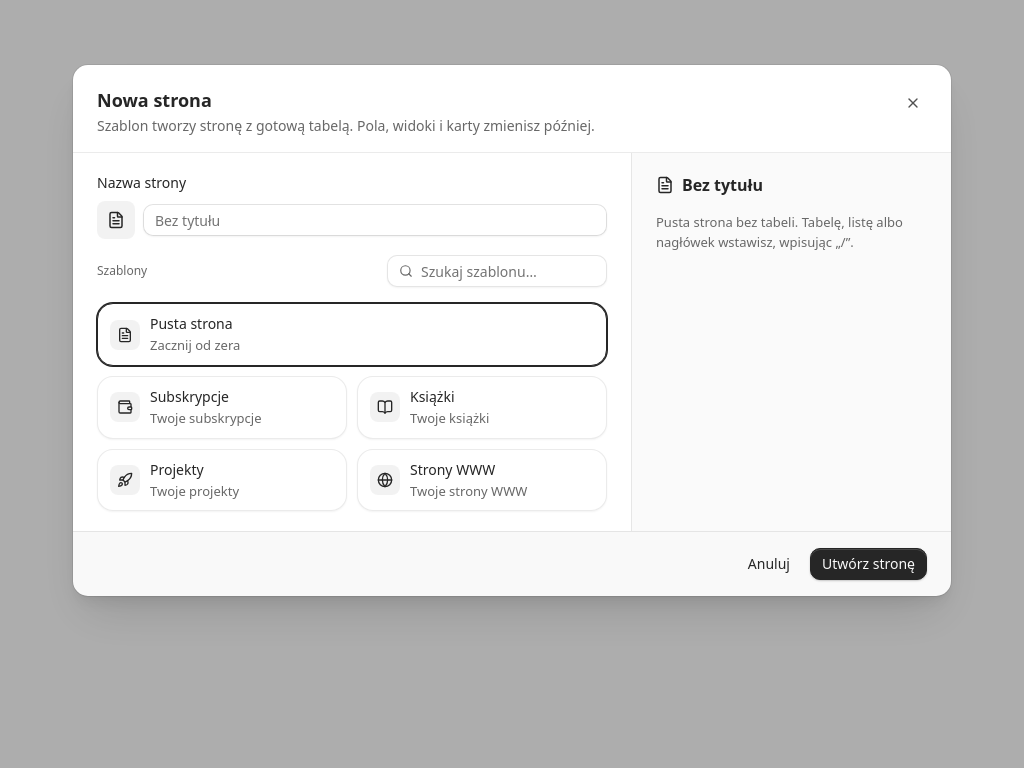
Test: NewPageView › wyszukiwanie filtruje szablony; brak wyniku pokazuje „Pokaż wszystkie”, które czyści frazę
The width and height of the screenshot is (1024, 768).
In the field labelled "Szukaj szablonu": (508, 271) top-left (421, 256), bottom-right (595, 286), type "www"
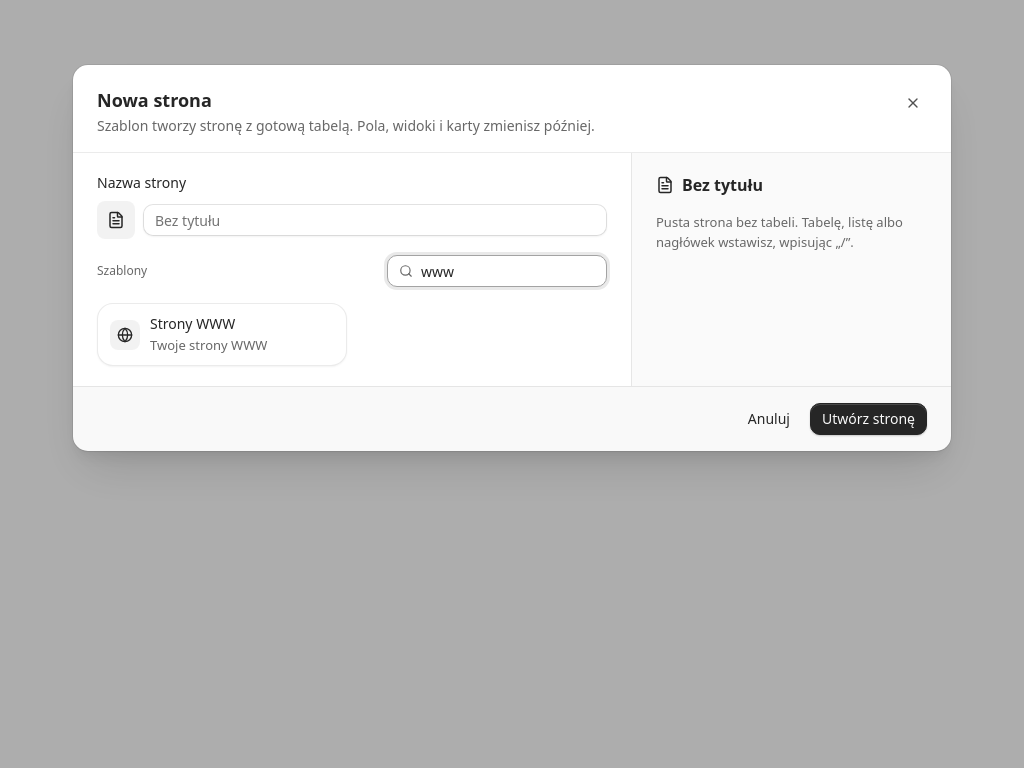
Expected: the radio button labelled "Strony WWW Twoje strony WWW" is shown, top-left (97, 303), bottom-right (347, 366)
Expected: the radio button labelled "Książki" is gone
Replace the text in the field named "Szukaj szablonu" with "xyz": (508, 271) top-left (421, 256), bottom-right (595, 286)
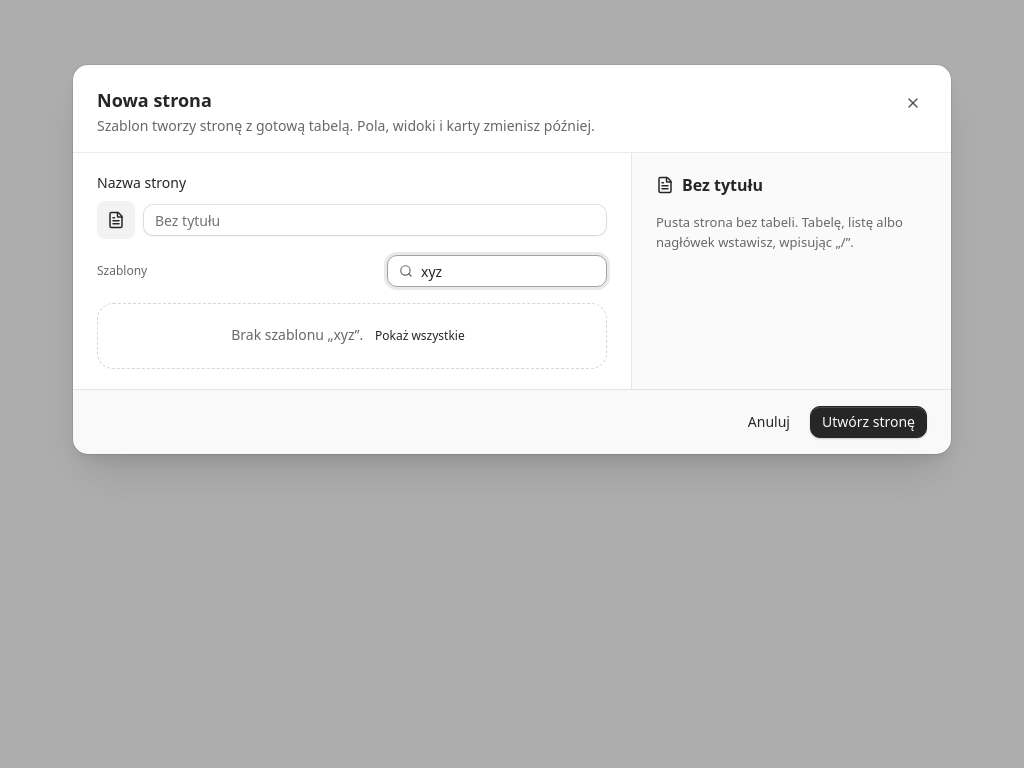
Expected: the text "Brak szablonu „xyz”. Pokaż wszystkie" is shown, top-left (97, 303), bottom-right (607, 369)
Click the button "Pokaż wszystkie": (420, 336) top-left (367, 324), bottom-right (473, 348)
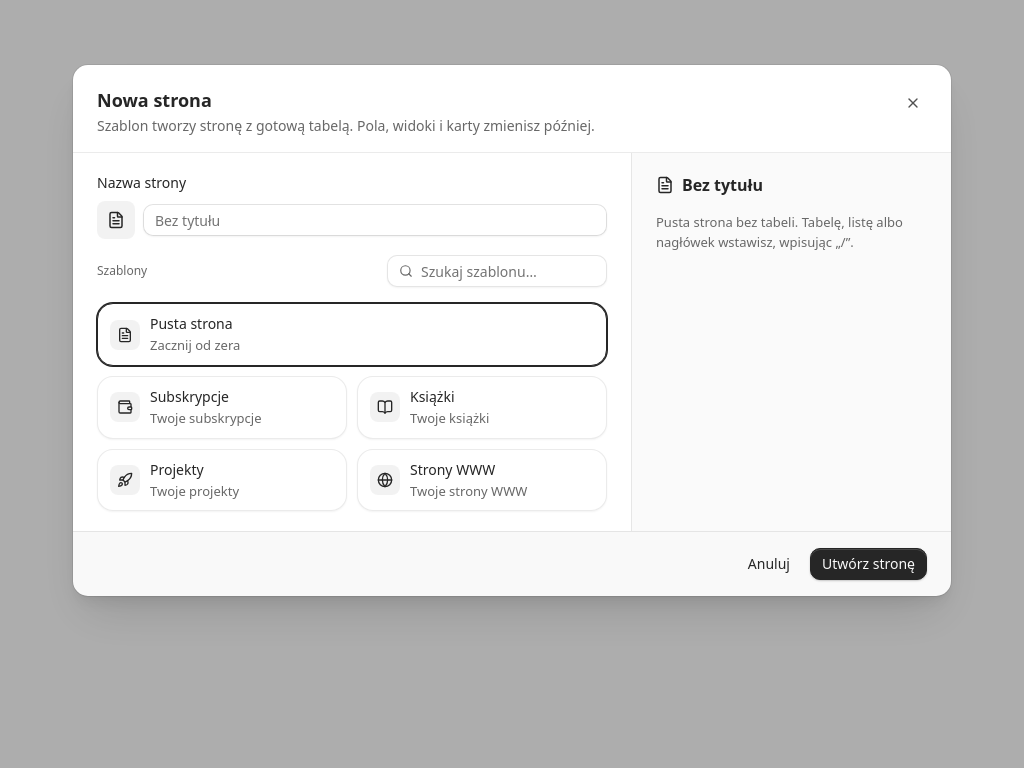
Expected: the number of radio buttons is 5, top-left (97, 303), bottom-right (607, 366); top-left (97, 376), bottom-right (347, 439); top-left (357, 376), bottom-right (607, 439); top-left (97, 448), bottom-right (347, 511); top-left (357, 448), bottom-right (607, 511)
